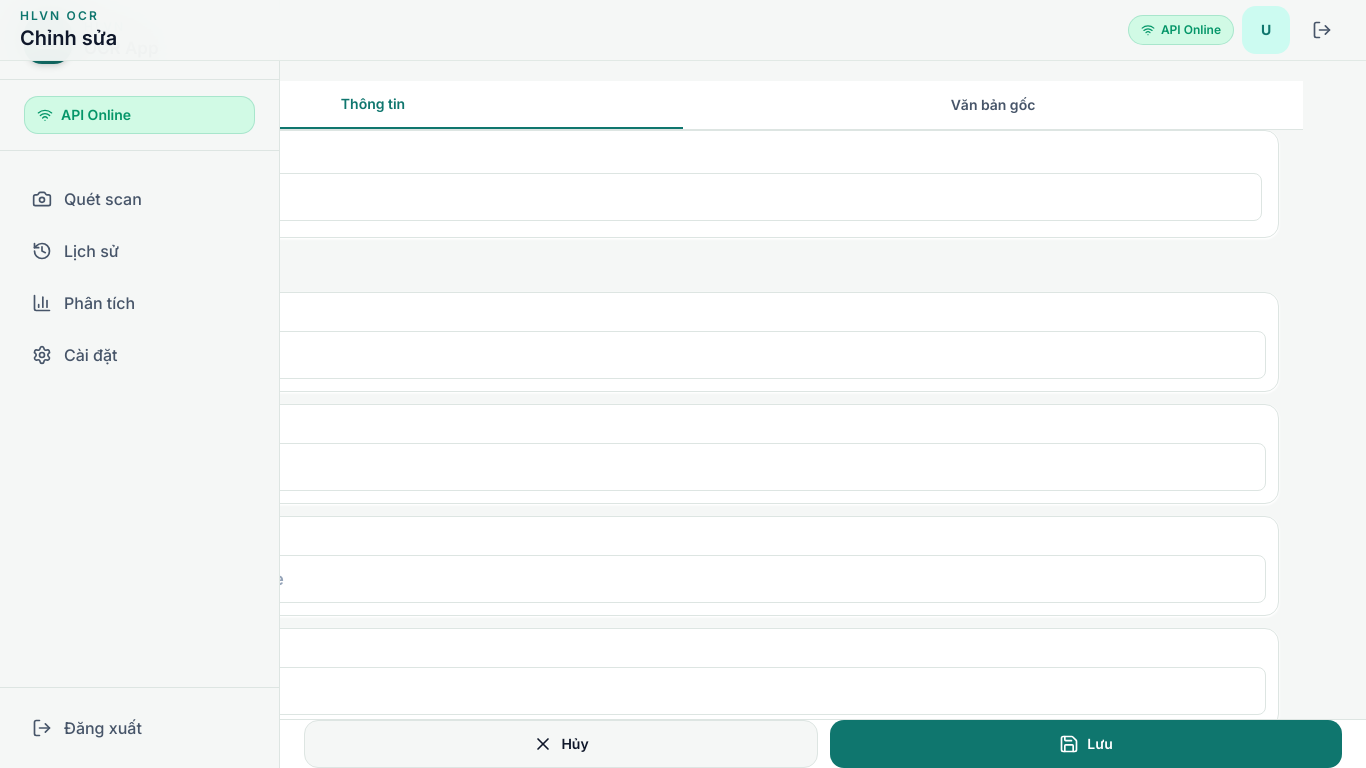
Test case: EditPage - save error feedback › shows error and does not navigate when updateScan rejects
This screenshot has width=1366, height=768.
Click the button "Lưu": {"x": 1086, "y": 744} [830,720,1342,767]
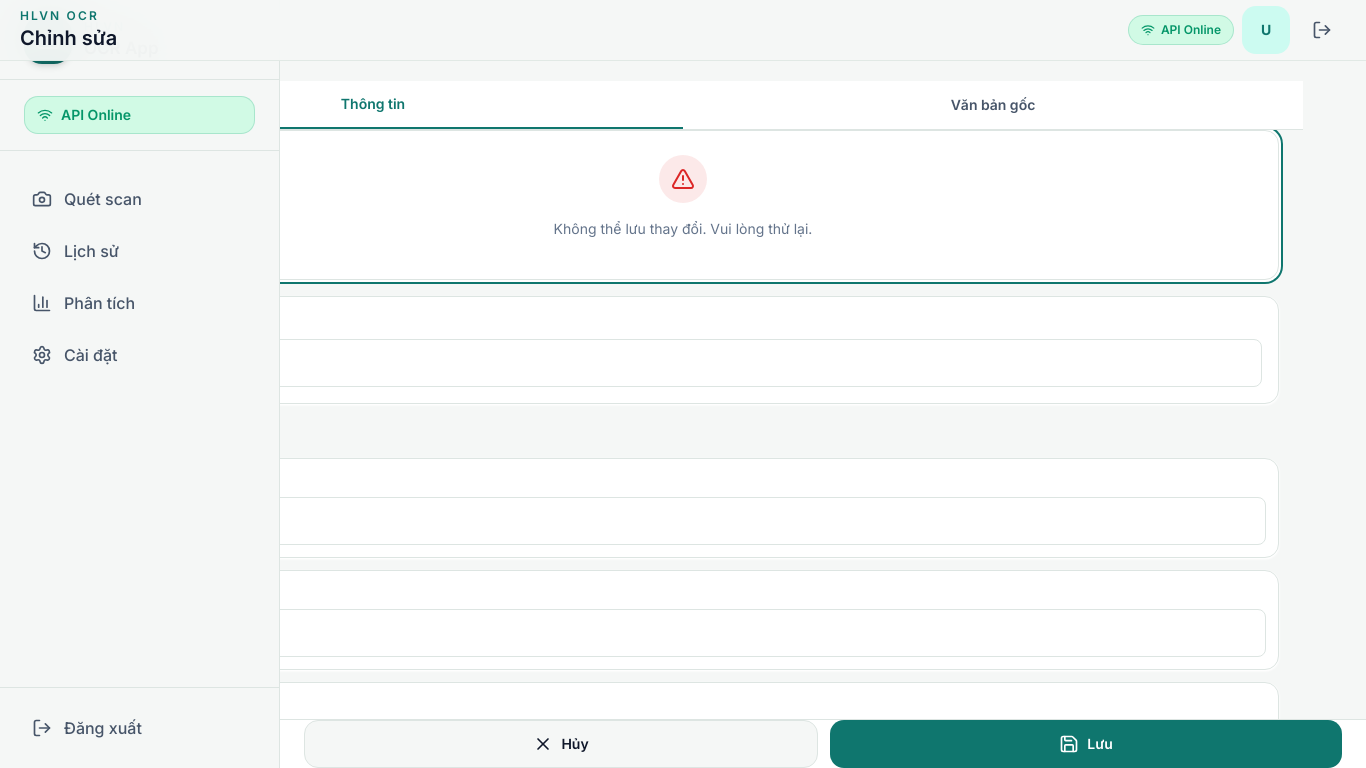
Expected: the message "Không thể lưu thay đổi. Vui lòng thử lại." is shown, [87,130,1279,280]
Expected: the text "Không thể lưu thay đổi. Vui lòng thử lại." is shown, [554,219,812,239]
